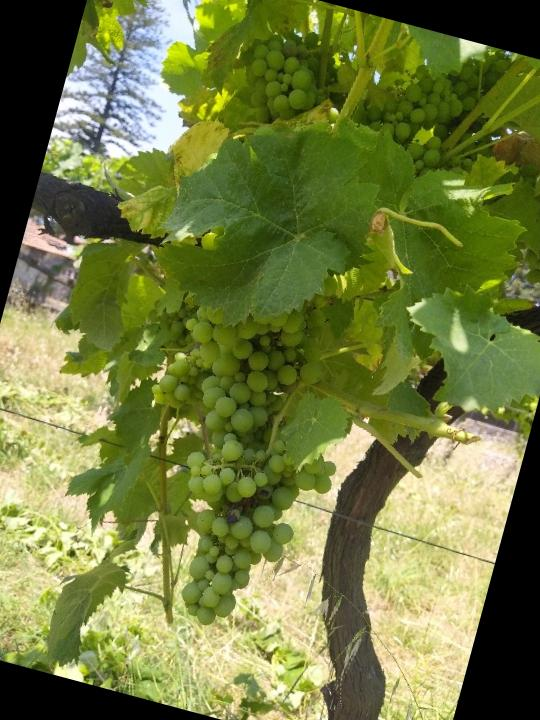grape: (144, 420, 341, 650), (140, 276, 340, 464), (354, 22, 514, 190), (223, 13, 347, 132)
